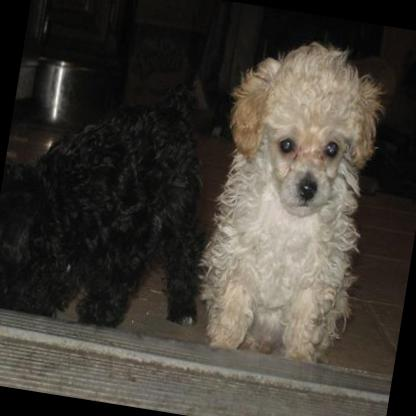toy_poodle: (184, 26, 393, 368), (0, 56, 230, 340)
